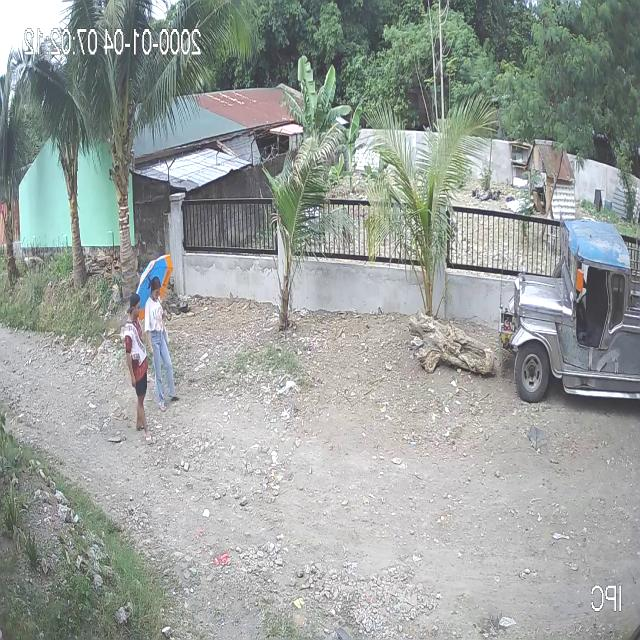walking: (134, 251, 180, 413), (122, 290, 156, 446)
